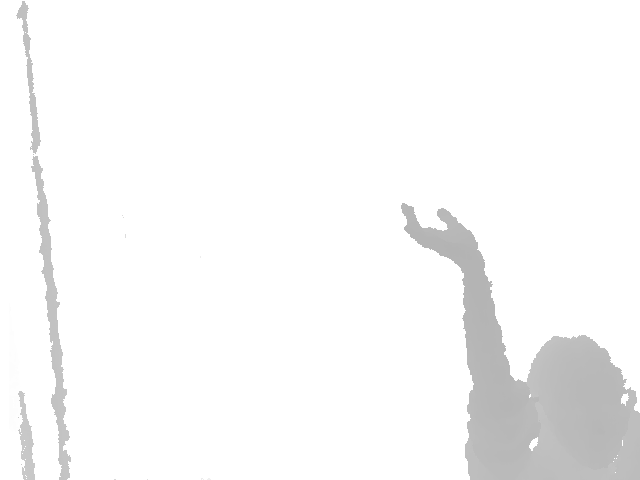hand: (400, 202, 486, 267)
head: (528, 335, 627, 464)
person: (400, 202, 640, 480)
